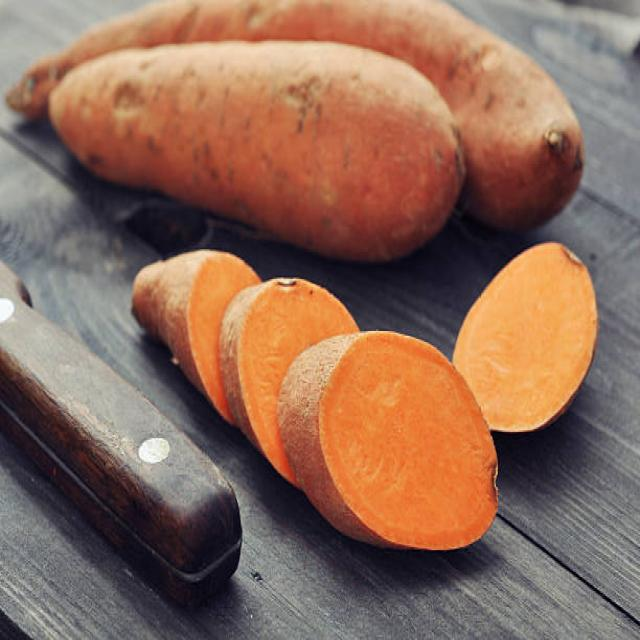Sweet Potato: (54, 42, 452, 256), (290, 330, 501, 548), (458, 25, 586, 230), (488, 242, 598, 442), (126, 243, 220, 398)
